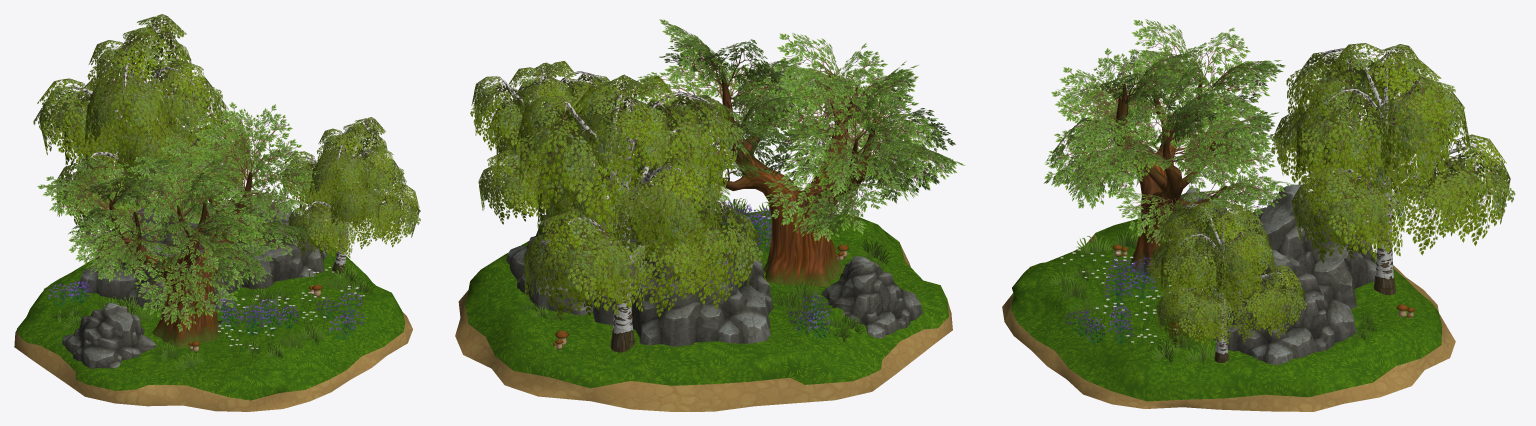
3 views of the same model, side by side, from view 1: azimuth 30°, elevation 25°; view 2: azimuth 150°, elevation 25°; view 3: azimuth 270°, elevation 25° (orthographic). The views are drawn at different scales.
Parts seen in each view (by area): view 1: Deciduous_tree1, GroundGrass, Birch_tree3, Birch_tree2, Rock1, Grass010, GroundRoad; view 2: Birch_tree3, Deciduous_tree1, GroundGrass, Rock1, GroundRoad, Birch_tree2, Grass010; view 3: Birch_tree3, Deciduous_tree1, GroundGrass, Birch_tree2, Rock1, Grass010, GroundRoad.
Boxes of the visible parts, x1,y1,x2,y2 form: Deciduous_tree1: [37, 102, 320, 347]; GroundGrass: [17, 246, 405, 400]; Birch_tree3: [33, 14, 251, 232]; Birch_tree2: [279, 117, 420, 273]; Rock1: [62, 190, 328, 368]; Grass010: [48, 263, 373, 372]; GroundRoad: [14, 287, 412, 411]; Birch_tree3: [515, 74, 762, 352]; Deciduous_tree1: [628, 19, 965, 286]; GroundGrass: [465, 210, 948, 388]; Rock1: [506, 213, 922, 346]; GroundRoad: [455, 244, 952, 411]; Birch_tree2: [470, 61, 637, 224]; Grass010: [517, 192, 890, 349]; Birch_tree3: [1271, 43, 1515, 295]; Deciduous_tree1: [1044, 19, 1293, 276]; GroundGrass: [1011, 218, 1442, 401]; Birch_tree2: [1147, 201, 1307, 362]; Rock1: [1180, 184, 1375, 364]; Grass010: [1049, 196, 1414, 365]; GroundRoad: [1002, 233, 1455, 411].
Bounding box in the file's own units: 9.86 × 6.16 × 10.65.
8 materials, 8 textured.
